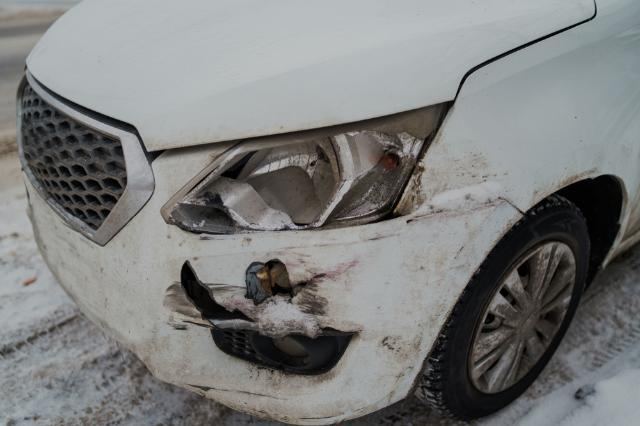crack: (179, 260, 258, 325), (264, 258, 328, 299)
lamp broken: (166, 105, 445, 233)
scratch: (159, 282, 208, 331), (294, 281, 332, 319)
